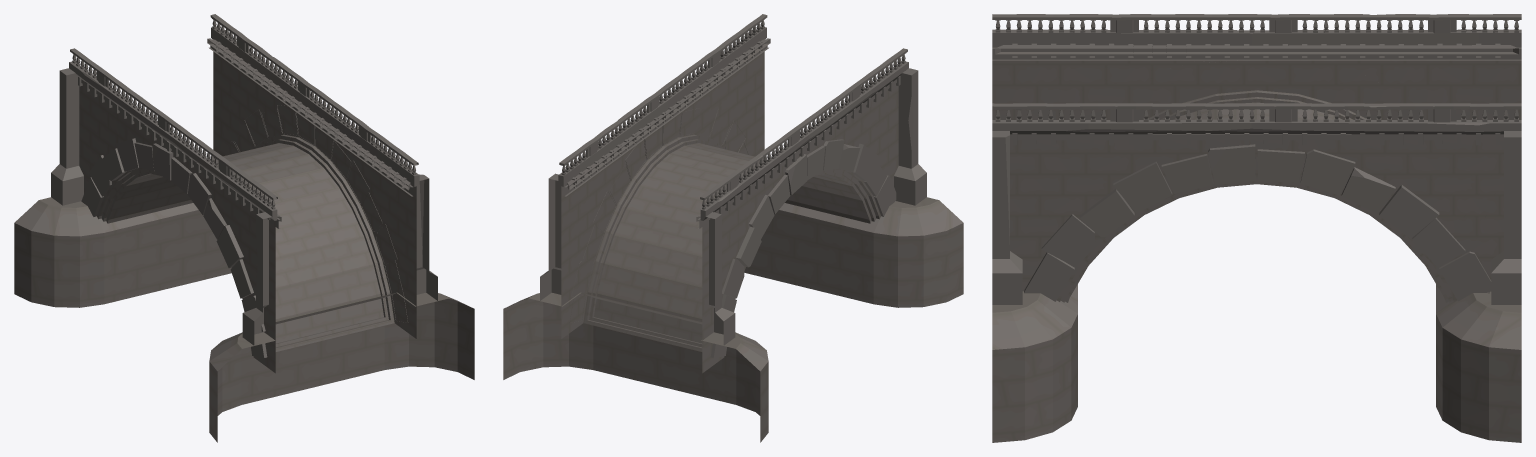
Rendered from NS_Bridge.fbx.
The picture shows the model from 3 angles, left to right: view 1: azimuth 30°, elevation 25°; view 2: azimuth 150°, elevation 25°; view 3: azimuth 270°, elevation 25°; orthographic projection. The views are drawn at different scales.
Visible parts, largest first — view 1: NS_Bridge; view 2: NS_Bridge; view 3: NS_Bridge.
Part boxes in pixels (box(x1,y1,x2,y2)): NS_Bridge: box(14, 14, 474, 442); NS_Bridge: box(503, 14, 963, 442); NS_Bridge: box(992, 14, 1521, 442).
Bounding box in the file's own units: 1460 × 1255 × 2000.
